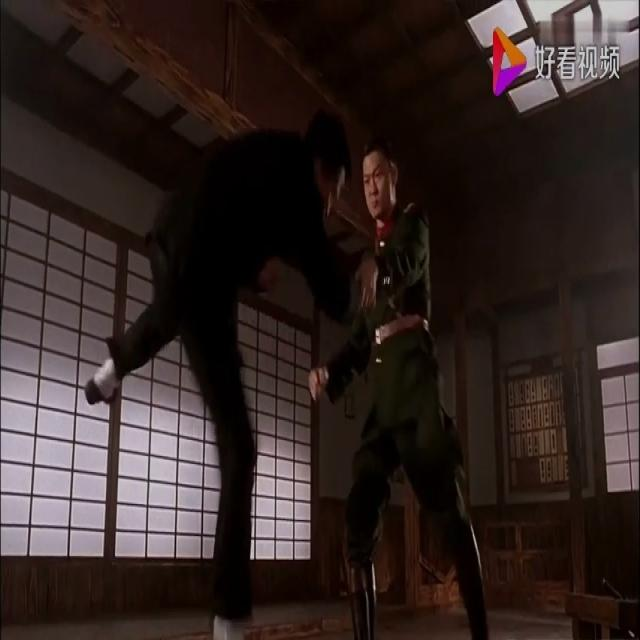fight: (84, 110, 362, 640), (308, 144, 494, 638)
